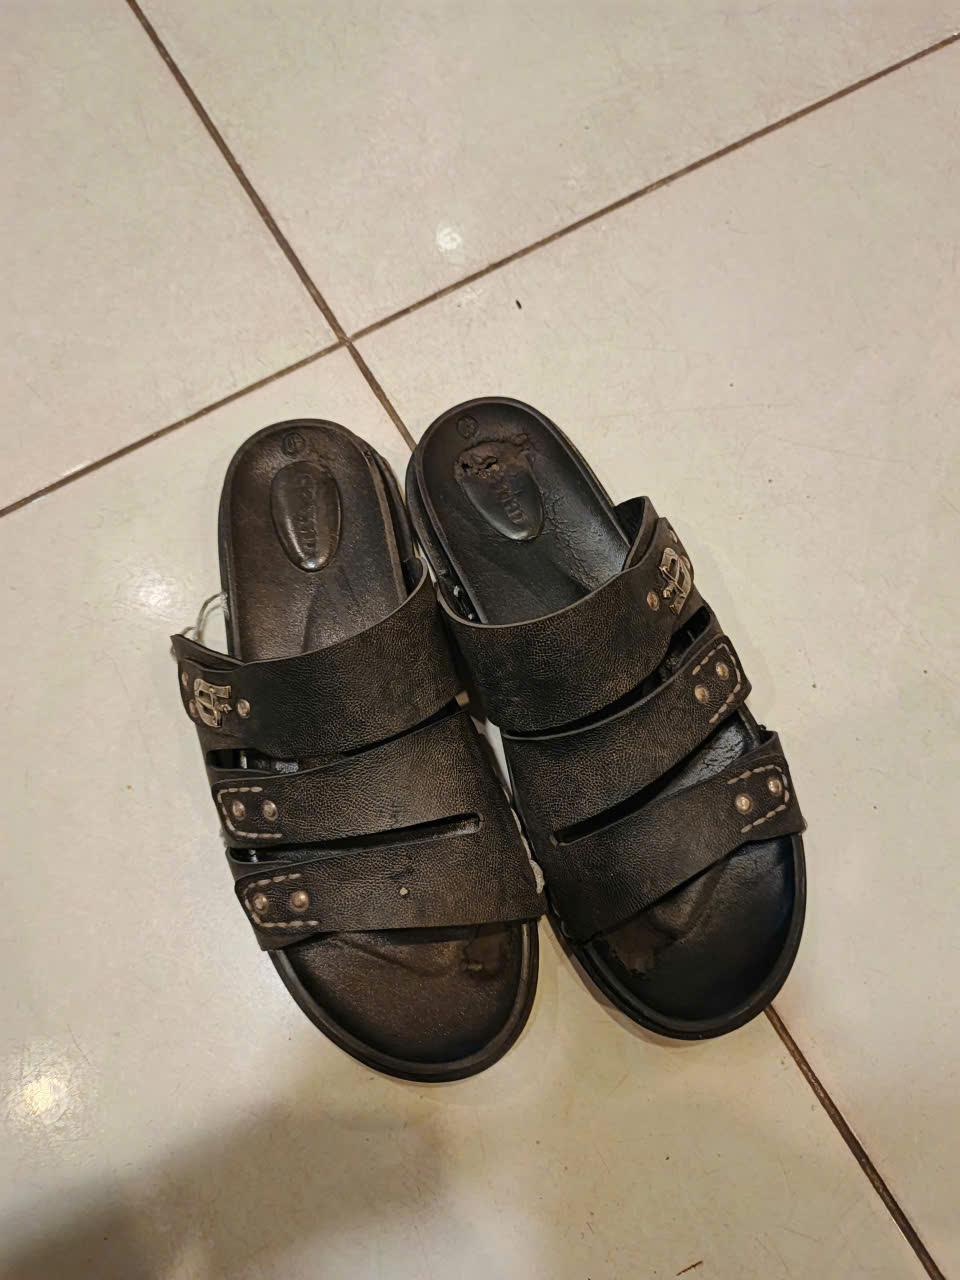Con lai: (170, 393, 810, 1089)
